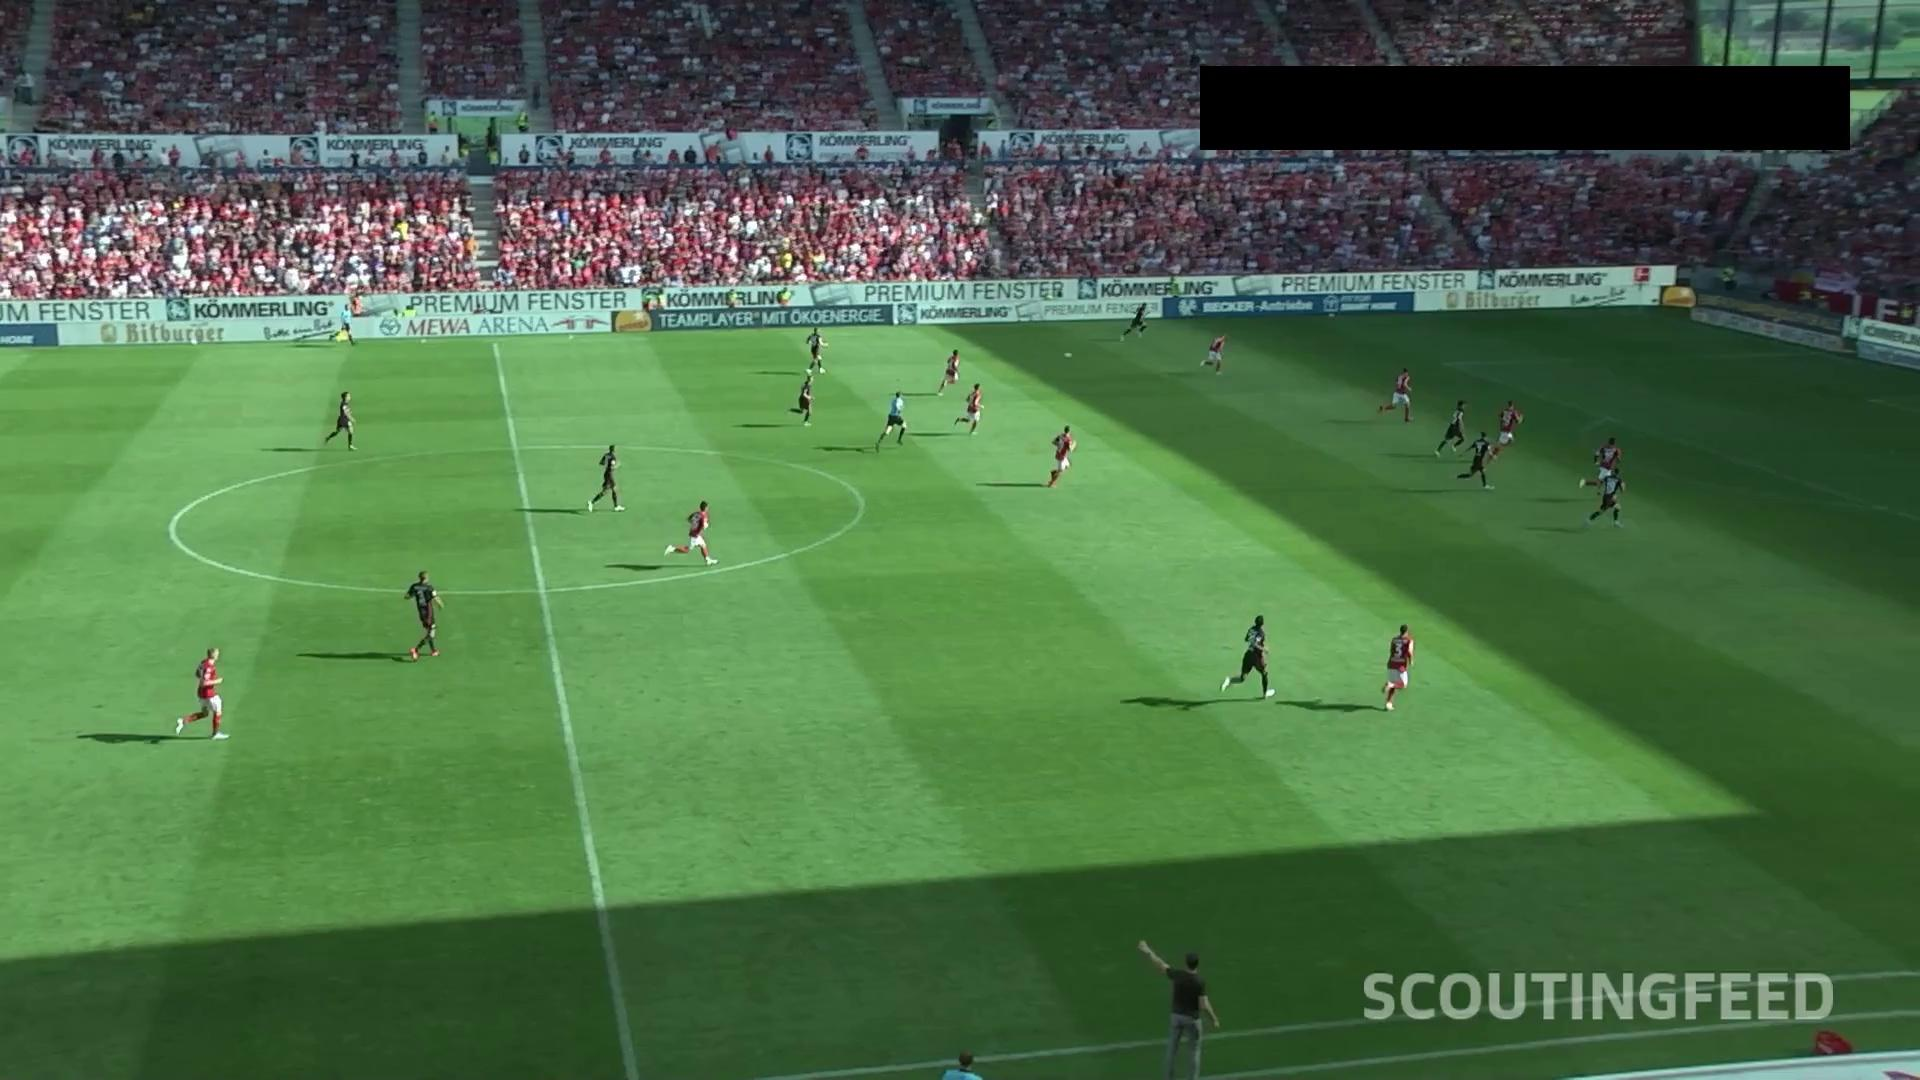Location-of-ball: (1059, 342, 1081, 365)
